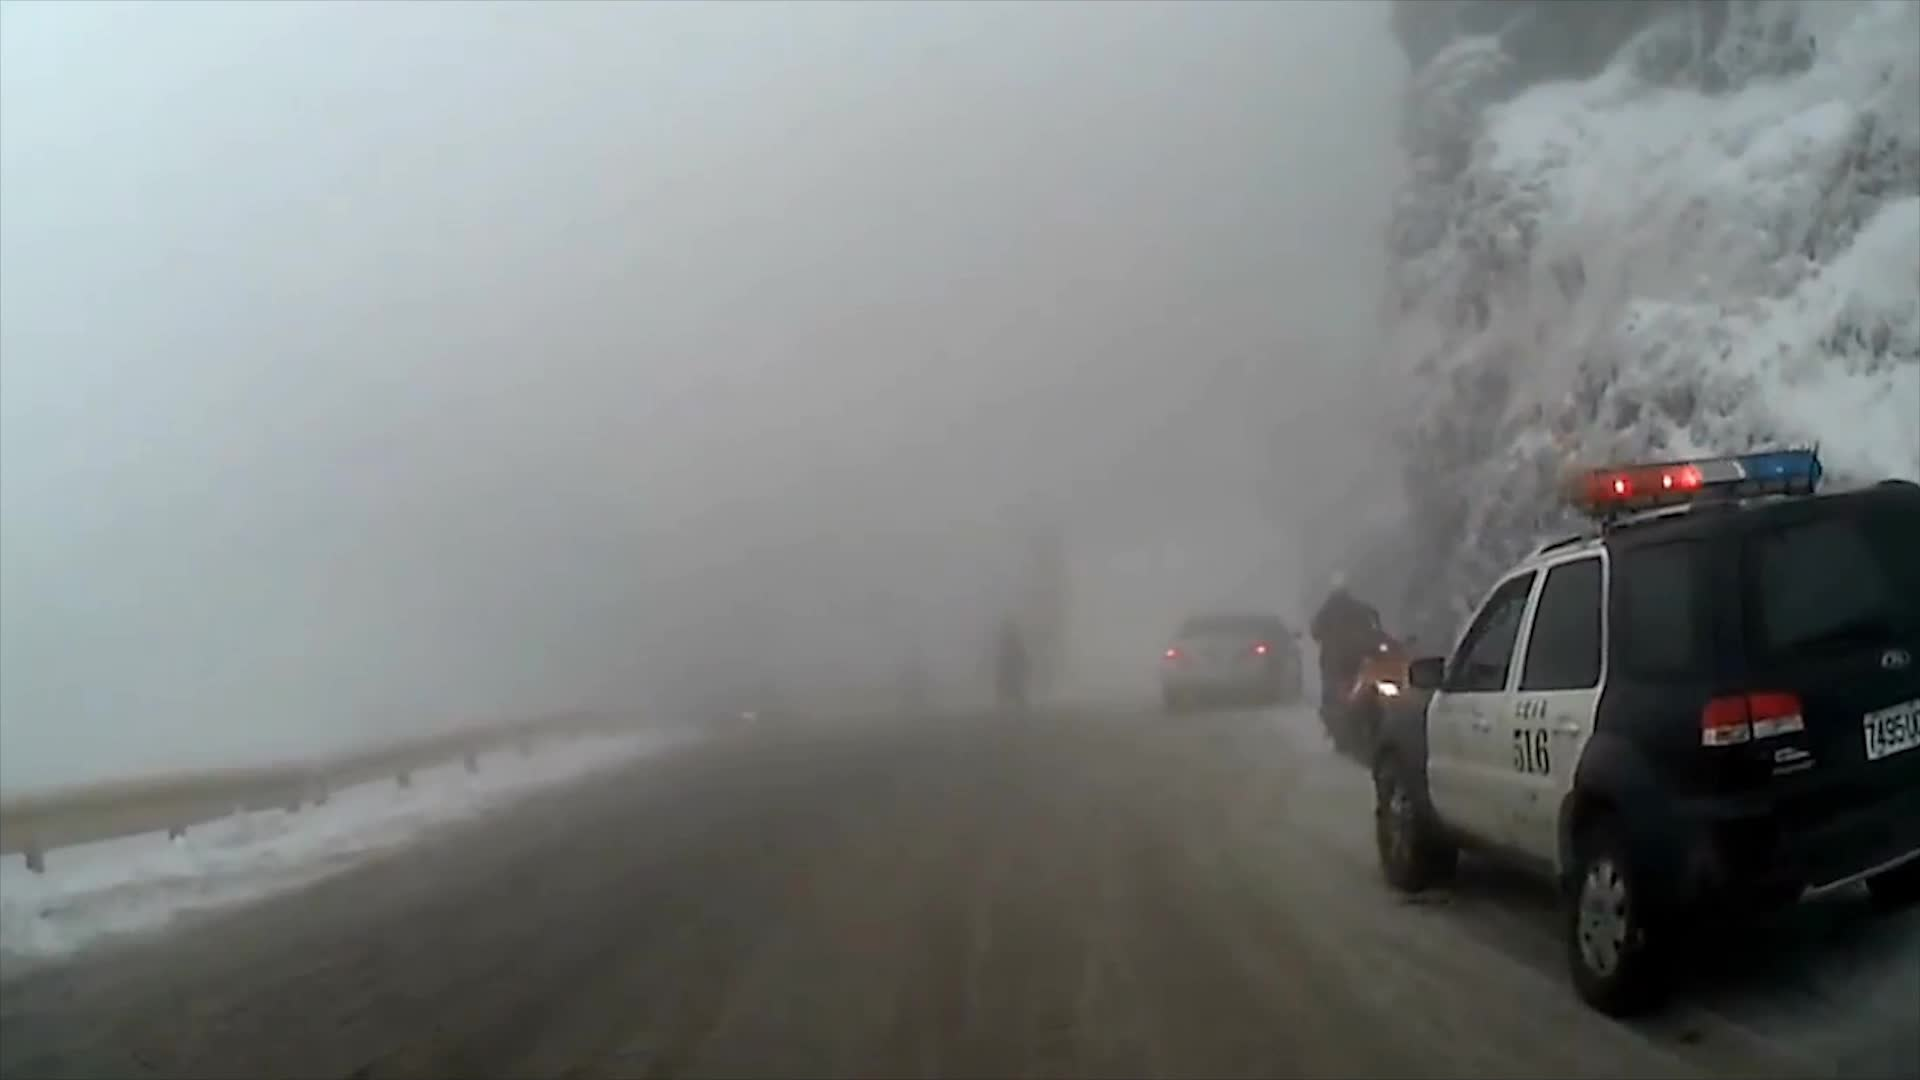pedestrian: (1309, 580, 1385, 747)
vehicle: (1366, 445, 1920, 1023), (1158, 607, 1304, 714)
